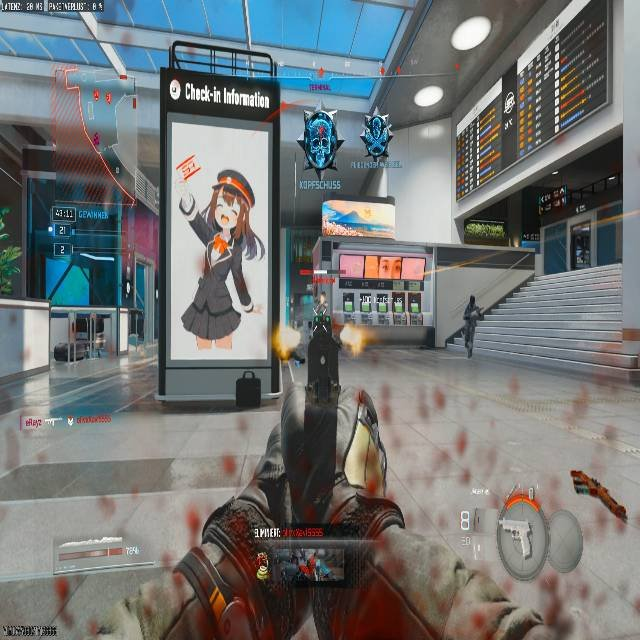head: (468, 295, 476, 306)
player: (178, 167, 257, 343), (299, 105, 342, 175), (363, 109, 393, 164), (460, 296, 485, 358)
